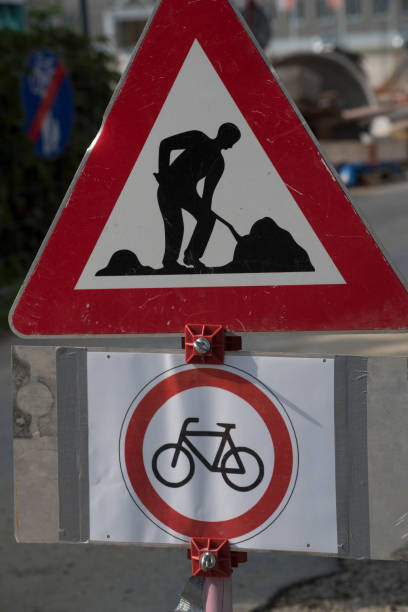yaya: (111, 373, 313, 559)
yol_calismasi_levha: (14, 5, 402, 337)
